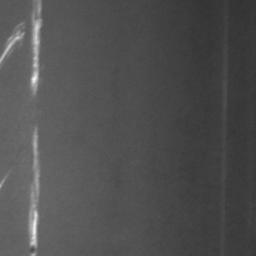Bright scratch: (28, 128, 41, 256), (29, 0, 45, 96), (0, 24, 26, 63)
